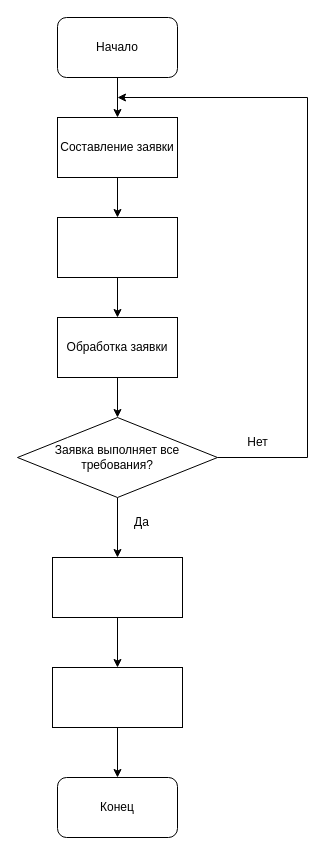
This 333x855 diagram has some shape labels left out. The shapes that lost their labels are listed below. From the top down, each one's centre as x and y in pixels, then its label:
(117,247): Отправка заявки
(117,587): Регистрация заявки
(117,697): Заявка зарегистрирована в системе
